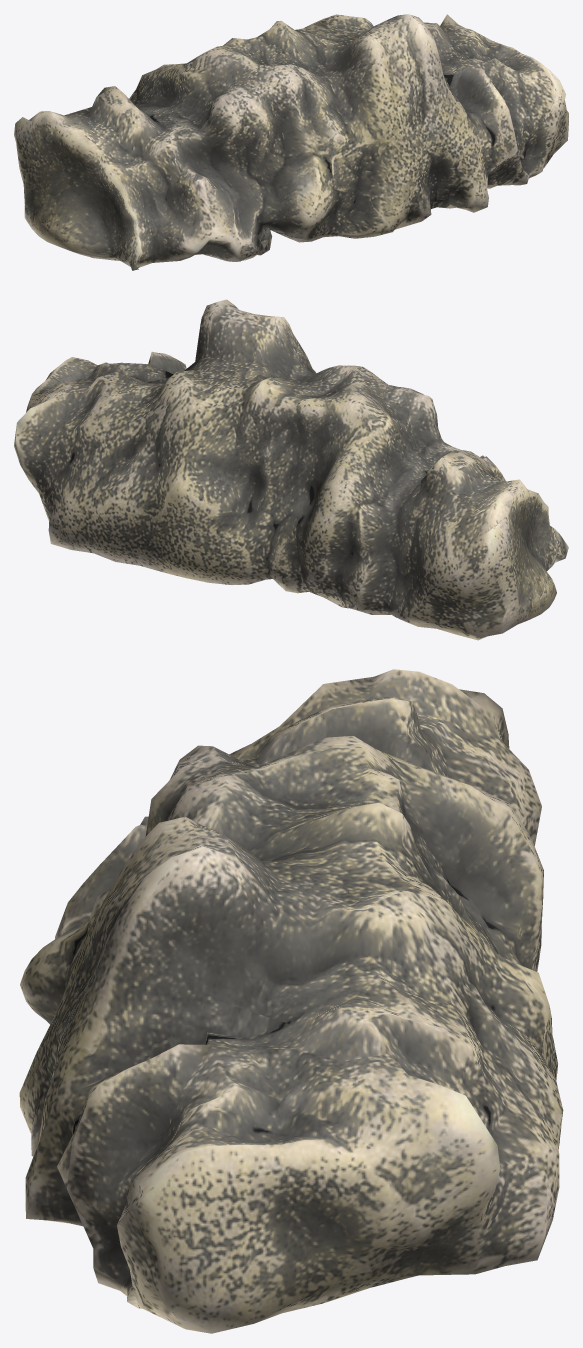
File: rock3_LOD0.fbx
3 views of the same model, one above another, from view 1: azimuth 30°, elevation 25°; view 2: azimuth 150°, elevation 25°; view 3: azimuth 270°, elevation 25° (orthographic). The views are drawn at different scales.
Visible parts, largest first — view 1: rock3_LOD0; view 2: rock3_LOD0; view 3: rock3_LOD0.
Part boxes in pixels (x1,y1,x2,y2): rock3_LOD0: (14, 14, 568, 270); rock3_LOD0: (14, 299, 568, 640); rock3_LOD0: (19, 669, 563, 1333).
Size of the model in its own units: 1493 by 544 by 724.
1 material, 1 textured.
